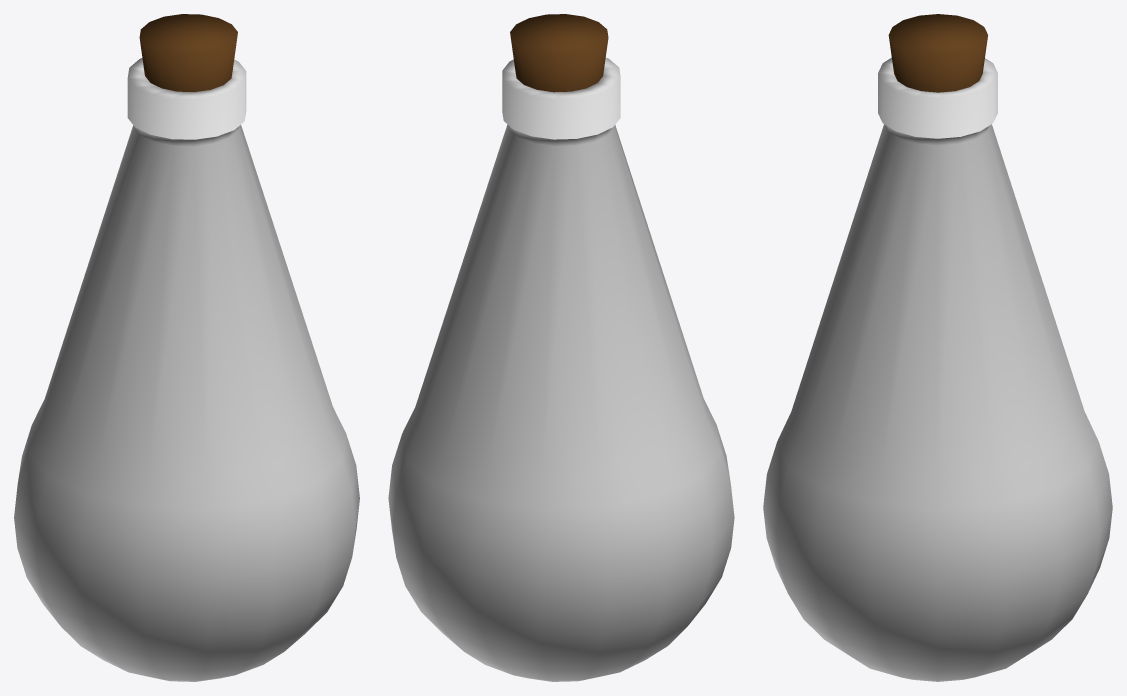
Rendered from Potion6.fbx.
The picture shows the model from 3 angles, left to right: view 1: azimuth 30°, elevation 25°; view 2: azimuth 150°, elevation 25°; view 3: azimuth 270°, elevation 25°; orthographic projection.
Visible parts, largest first — view 1: Vidro6, Rolha6; view 2: Vidro6, Rolha6; view 3: Vidro6, Rolha6.
Part boxes in pixels (bbox=[...]): Vidro6: bbox=[14, 58, 359, 681]; Rolha6: bbox=[139, 14, 237, 92]; Vidro6: bbox=[388, 57, 734, 681]; Rolha6: bbox=[510, 14, 608, 92]; Vidro6: bbox=[763, 57, 1112, 681]; Rolha6: bbox=[888, 14, 987, 92].
Size of the model in its own units: 52.48 by 105 by 52.48.
